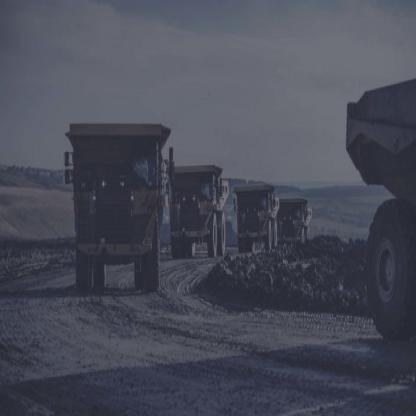dump_truck: (62, 108, 168, 292), (167, 155, 226, 266), (232, 172, 282, 264), (280, 191, 316, 252)
